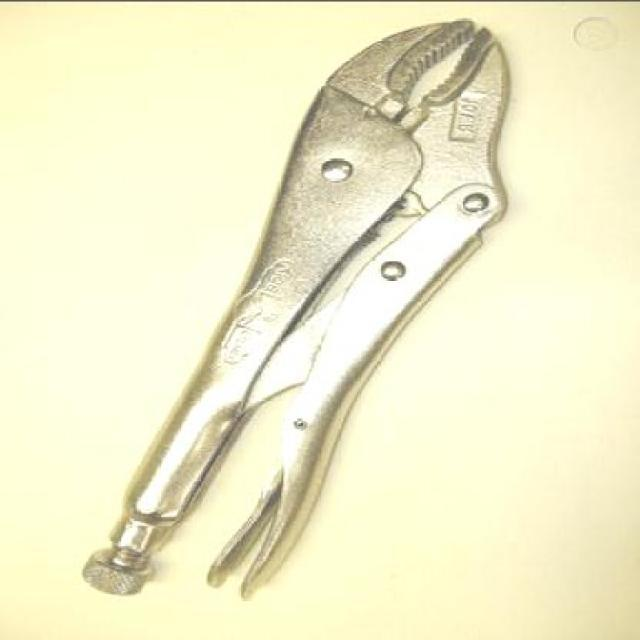pliers: (59, 18, 515, 602)
